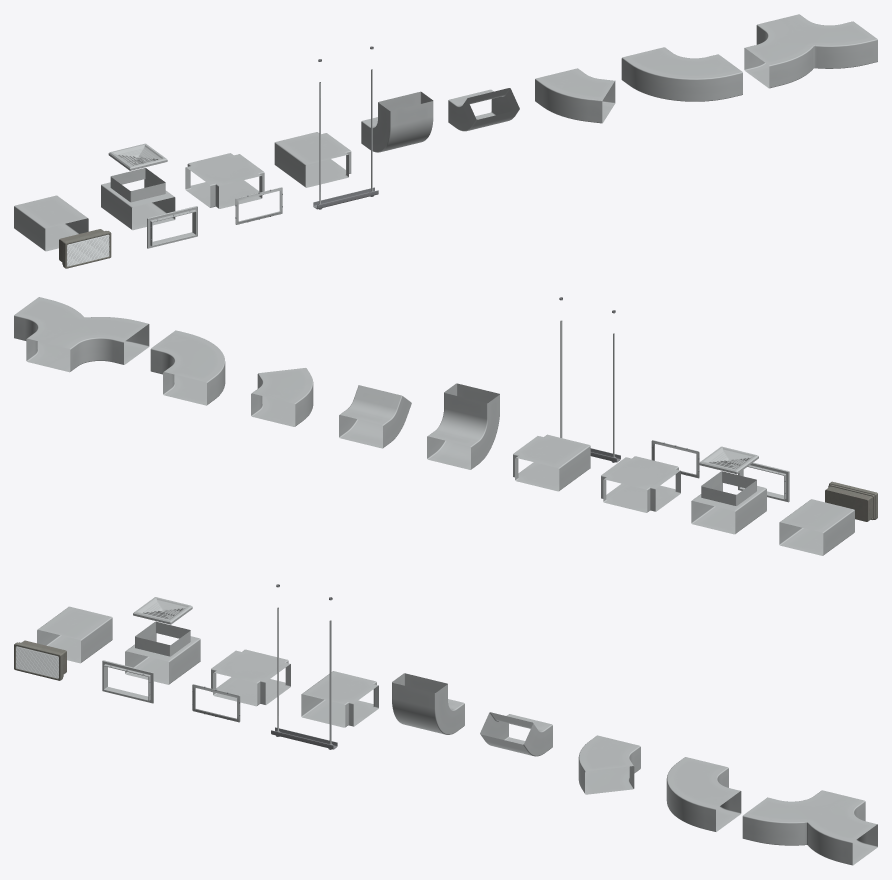
Rendered from Free Modular Air Duct Kit.glb.
3 renders of one model, top to bottom at view 1: azimuth 30°, elevation 25°; view 2: azimuth 150°, elevation 25°; view 3: azimuth 330°, elevation 25°, orthographic.
Visible parts, largest first — view 1: air_duct_V, air_duct_sideways_90, air_duct_sideaways_45, air_duct_vertical_90, air_duct_X, air_duct_top_connection, air_duct_T, air_duct_I, air_duct_vertical_45, air_duct_side_cap, air_duct_connection_bottom, air_duct_top_cap (+2 smaller); view 2: air_duct_V, air_duct_vertical_90, air_duct_sideways_90, air_duct_top_connection, air_duct_X, air_duct_T, air_duct_vertical_45, air_duct_I, air_duct_sideaways_45, air_duct_side_cap, air_duct_top_cap, air_duct_connection_bottom (+1 smaller); view 3: air_duct_V, air_duct_sideways_90, air_duct_vertical_90, air_duct_X, air_duct_top_connection, air_duct_T, air_duct_sideaways_45, air_duct_I, air_duct_vertical_45, air_duct_side_cap, air_duct_connection_bottom, air_duct_top_cap (+1 smaller).
Part boxes in pixels (<box>): air_duct_V: <box>744,14,877,88</box>; air_duct_sideways_90: <box>621,47,742,101</box>; air_duct_sideaways_45: <box>535,68,615,123</box>; air_duct_vertical_90: <box>361,91,433,152</box>; air_duct_X: <box>185,153,264,208</box>; air_duct_top_connection: <box>101,168,175,230</box>; air_duct_T: <box>274,132,351,187</box>; air_duct_I: <box>14,195,88,251</box>; air_duct_vertical_45: <box>448,88,519,131</box>; air_duct_side_cap: <box>59,229,111,268</box>; air_duct_connection_bottom: <box>313,69,378,209</box>; air_duct_top_cap: <box>108,143,167,170</box>; air_duct_V: <box>14,297,149,372</box>; air_duct_vertical_90: <box>427,383,499,469</box>; air_duct_sideways_90: <box>150,330,225,405</box>; air_duct_top_connection: <box>691,471,766,534</box>; air_duct_X: <box>601,456,680,512</box>; air_duct_T: <box>513,434,590,491</box>; air_duct_vertical_45: <box>339,385,411,448</box>; air_duct_I: <box>779,499,854,555</box>; air_duct_sideaways_45: <box>251,368,313,426</box>; air_duct_side_cap: <box>825,481,877,521</box>; air_duct_top_cap: <box>699,446,758,474</box>; air_duct_connection_bottom: <box>560,320,620,462</box>; air_duct_V: <box>742,790,877,865</box>; air_duct_sideways_90: <box>666,757,741,831</box>; air_duct_vertical_90: <box>392,673,464,734</box>; air_duct_X: <box>211,649,290,706</box>; air_duct_top_connection: <box>125,621,200,684</box>; air_duct_T: <box>301,671,378,727</box>; air_duct_sideaways_45: <box>578,735,640,794</box>; air_duct_I: <box>37,606,112,663</box>; air_duct_vertical_45: <box>480,712,552,756</box>; air_duct_side_cap: <box>14,640,66,680</box>; air_duct_connection_bottom: <box>271,607,337,749</box>; air_duct_top_cap: <box>133,597,192,624</box>.
Size of the model in its own units: 44.67 by 7.76 by 4.98.
1 material, 1 textured.
